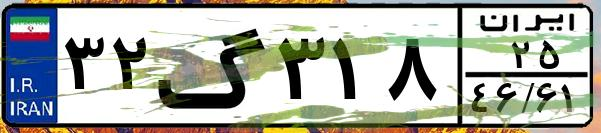1: (330, 28, 385, 110), (560, 70, 590, 125)
2: (110, 28, 156, 98), (508, 27, 537, 80)
3: (270, 28, 330, 110), (57, 26, 110, 100)
4: (470, 70, 495, 125)
5: (537, 27, 568, 80)
6: (495, 70, 520, 125), (535, 70, 560, 125)
8: (385, 28, 445, 110)
گ: (156, 12, 270, 120)
